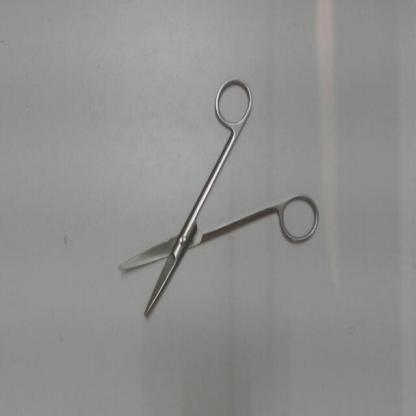Curved Mayo Scissors: (109, 68, 324, 325)
